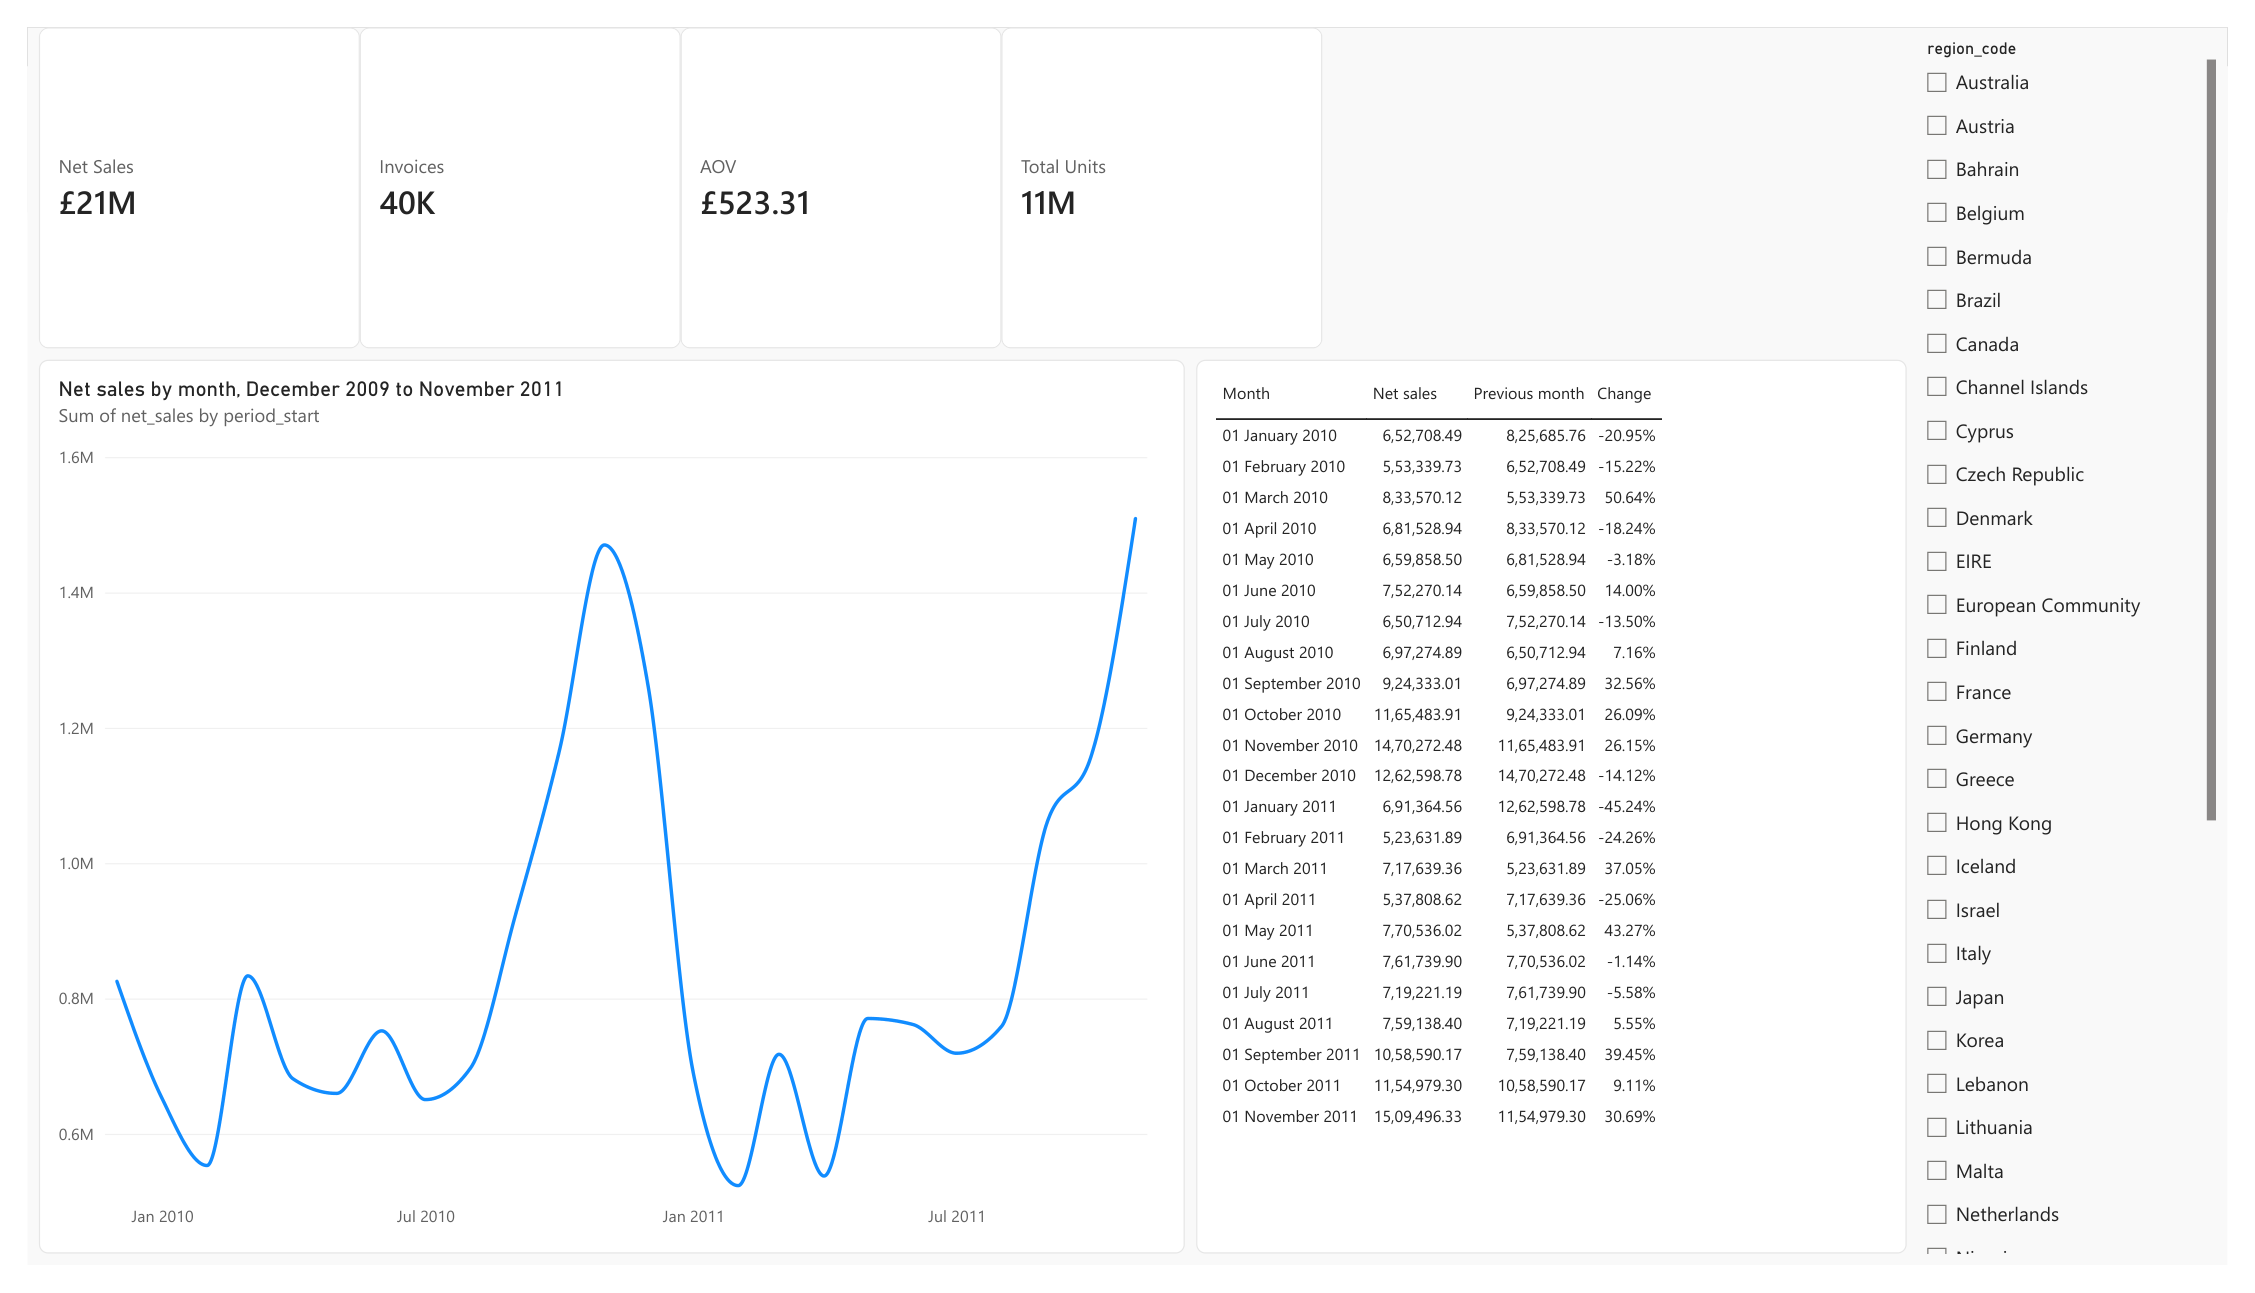

What the dashboard file says about the page in this screenshot:
{"tool":"powerbi","page":{"name":"Overview","canvas":[1920,1080],"ordinal":0},"visuals":[{"type":"cardVisual","fields":{"Data":["rootsignal fact_sales.Net Sales"]},"box":[10,0,280,280],"z":0},{"type":"cardVisual","fields":{"Data":["rootsignal fact_sales.Invoices"]},"box":[290,0,280,280],"z":1000},{"type":"cardVisual","fields":{"Data":["rootsignal fact_sales.AOV"]},"box":[570,0,280,280],"z":2000},{"type":"cardVisual","fields":{"Data":["rootsignal fact_sales.Total Units"]},"box":[850,0,280,280],"z":3000},{"type":"lineChart","title":"Net sales by month, December 2009 to November 2011","fields":{"Category":["rootsignal rpt_monthly_trade.period_start"],"Y":["Sum(rootsignal rpt_monthly_trade.net_sales)"]},"box":[10,290,1000,780],"z":4000},{"type":"tableEx","fields":{"Values":["rootsignal rpt_monthly_trend.period_start","Sum(rootsignal rpt_monthly_trend.value)","Sum(rootsignal rpt_monthly_trend.previous_value)","Sum(rootsignal rpt_monthly_trend.pct_change)"]},"box":[1020,290,620,780],"z":5000},{"type":"slicer","fields":{"Values":["rootsignal dim_region.region_code"]},"box":[1650,10,260,1060],"z":6000}]}

Visuals, with their boxes in screenshot pixels (x1, y1, x2, y2), scaled from the page's 1920x1080 canvas onto the 2255x1293 screenshot:
cardVisual - rootsignal fact_sales.Net Sales: left=12, top=0, right=341, bottom=335
cardVisual - rootsignal fact_sales.Invoices: left=341, top=0, right=669, bottom=335
cardVisual - rootsignal fact_sales.AOV: left=669, top=0, right=998, bottom=335
cardVisual - rootsignal fact_sales.Total Units: left=998, top=0, right=1327, bottom=335
"Net sales by month, December 2009 to November 2011" lineChart: left=12, top=347, right=1186, bottom=1281
tableEx - rootsignal rpt_monthly_trend.period_start x Sum(rootsignal rpt_monthly_trend.value): left=1198, top=347, right=1926, bottom=1281
slicer - rootsignal dim_region.region_code: left=1938, top=12, right=2243, bottom=1281
